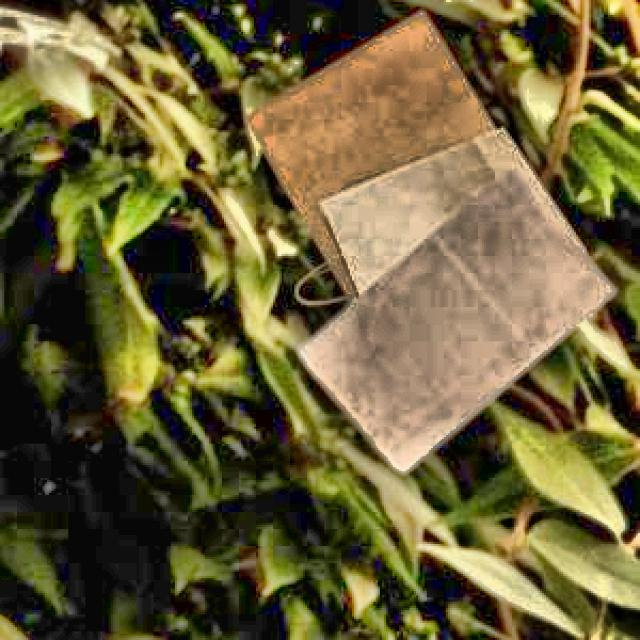Paper-bag: (235, 2, 625, 478)
